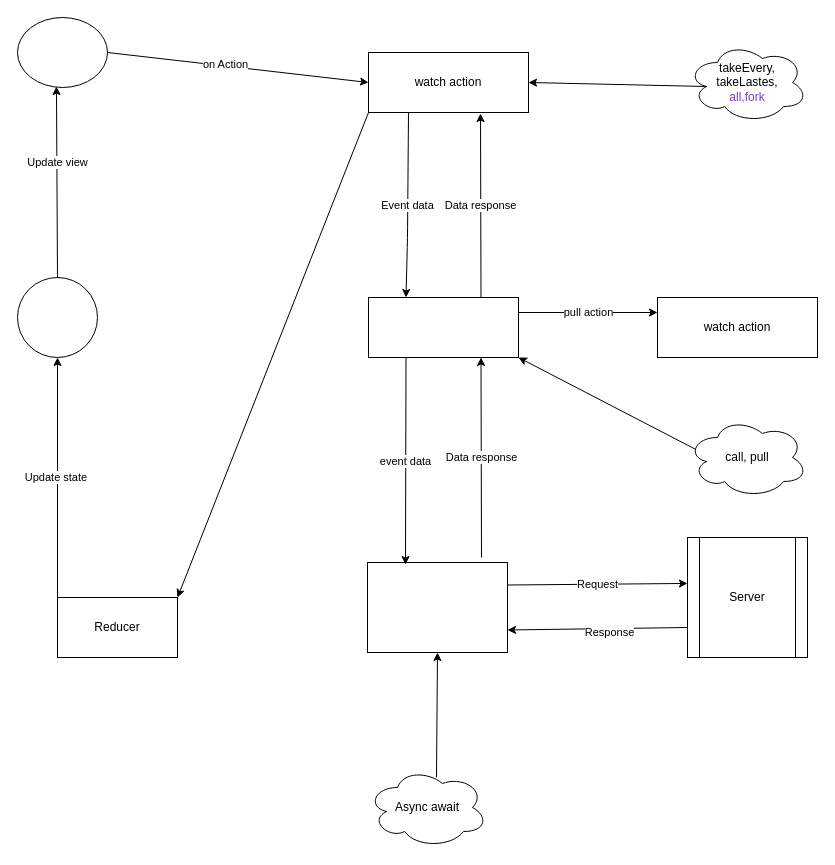
This 835x865 diagram has some shape labels left out. The shapes that lost their labels are listed below. From the top down, each one's centre as x and y in pixels, then its label:
[62,52]: Client
[57,317]: Store
[443,327]: Call
[437,607]: API
